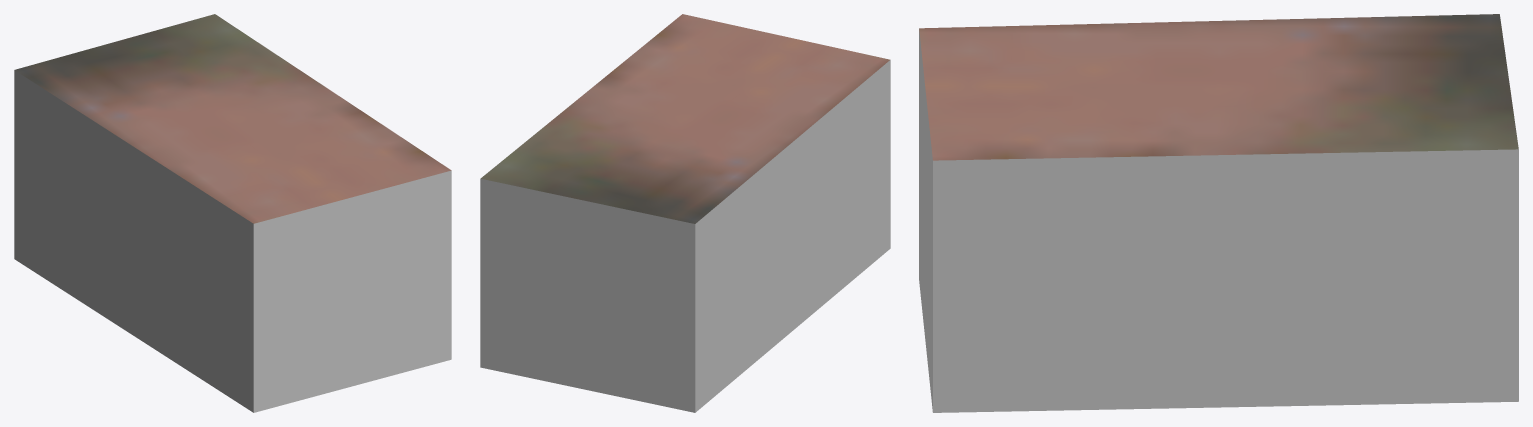
File: DEBW_0010007Txcs.gltf
The picture shows the model from 3 angles, left to right: view 1: azimuth 30°, elevation 25°; view 2: azimuth 150°, elevation 25°; view 3: azimuth 270°, elevation 25°; orthographic projection. The views are drawn at different scales.
Parts seen in each view (by area): view 1: Z_UP; view 2: Z_UP; view 3: Z_UP.
Boxes of the visible parts, x1=… form: Z_UP: x1=14, y1=14, x2=451, y2=412; Z_UP: x1=480, y1=14, x2=890, y2=412; Z_UP: x1=919, y1=14, x2=1518, y2=412.
Size of the model in its own units: 3.28 by 2.63 by 5.67.
2 materials, 1 textured.
